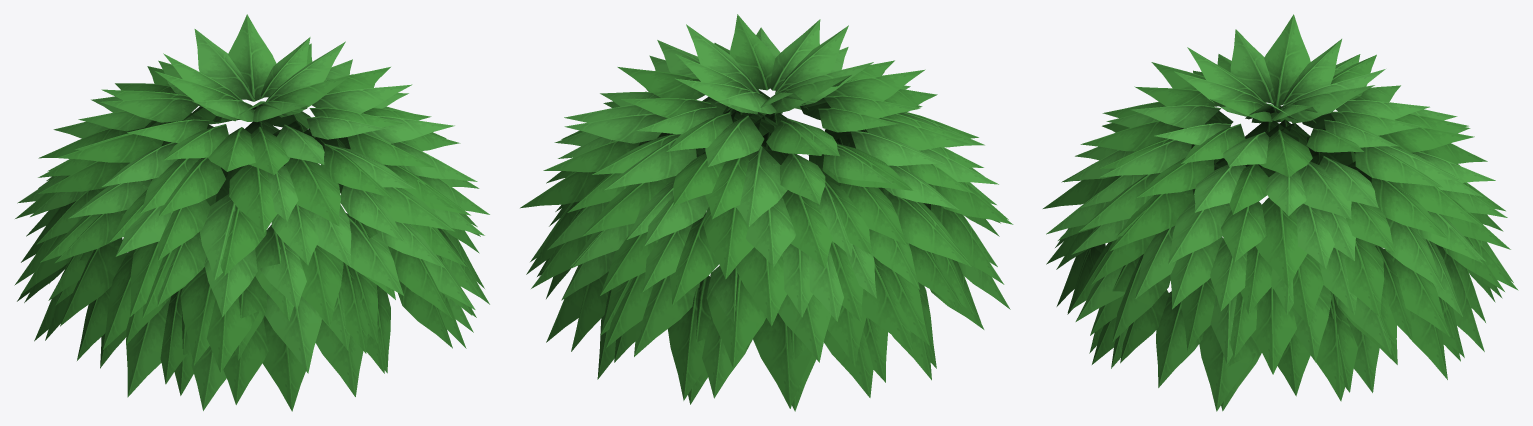
3 renders of one model, left to right at view 1: azimuth 30°, elevation 25°; view 2: azimuth 150°, elevation 25°; view 3: azimuth 270°, elevation 25°, orthographic. The views are drawn at different scales.
Visible parts, largest first — view 1: grid_3_leaves_LOD0; view 2: grid_3_leaves_LOD0; view 3: grid_3_leaves_LOD0.
Boxes of the visible parts, <box> form: grid_3_leaves_LOD0: <box>14,14,489,411</box>; grid_3_leaves_LOD0: <box>520,14,1013,411</box>; grid_3_leaves_LOD0: <box>1043,14,1518,411</box>.
Size of what is drawn, in the model's own units: 1.52 by 0.9231 by 1.51.
Materials: 1 (1 with a texture image).
